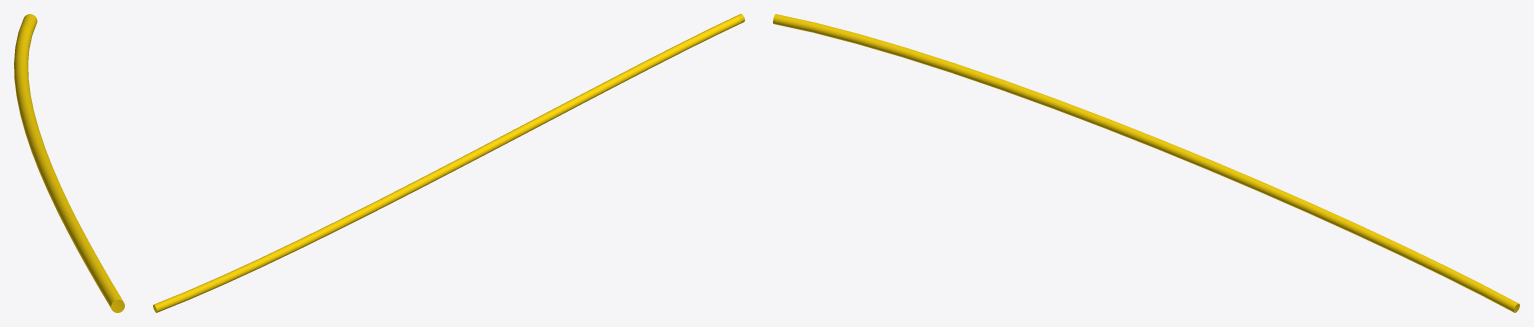
File: Event_421364160_track_66.fbx
3 renders of one model, left to right at view 1: azimuth 90°, elevation 25°; view 2: azimuth 210°, elevation 25°; view 3: azimuth 330°, elevation 25°, orthographic. The views are drawn at different scales.
Parts seen in each view (by area): view 1: Model; view 2: Model; view 3: Model.
Boxes of the visible parts, x1,y1,x2,y2 form: Model: (14, 14, 124, 312); Model: (153, 14, 744, 312); Model: (773, 14, 1519, 312).
Size of the model in its own units: 3.18 by 0.6346 by 0.3122.
